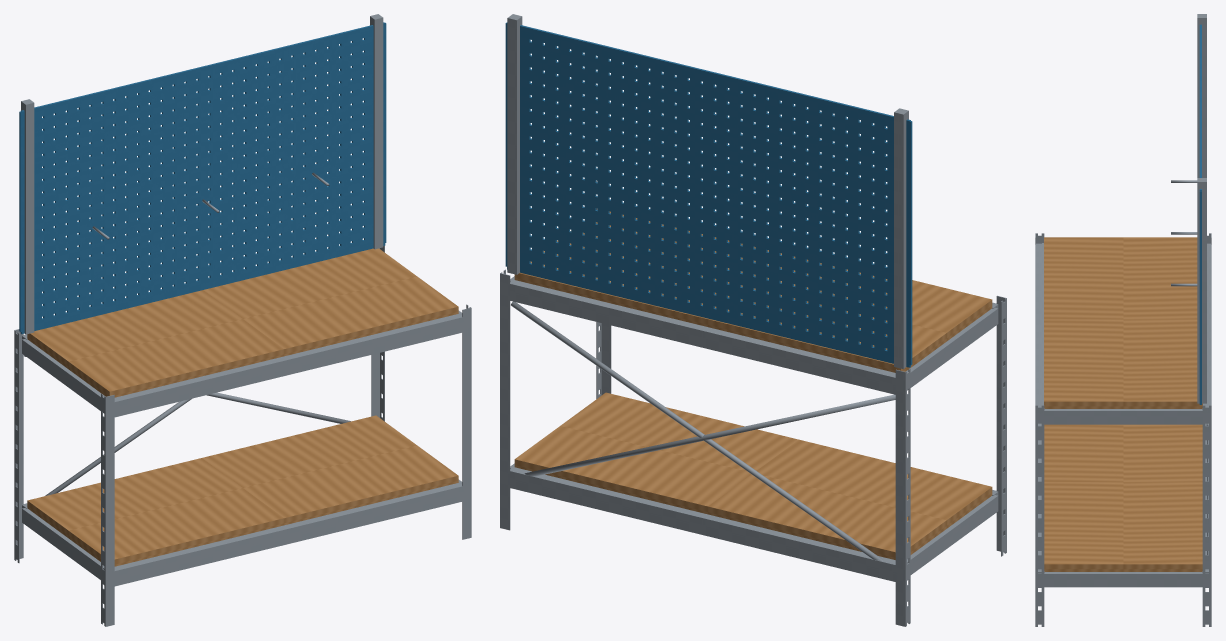
The model's file is workbench-with-pegboard.glb.
The picture shows the model from 3 angles, left to right: view 1: azimuth 30°, elevation 25°; view 2: azimuth 150°, elevation 25°; view 3: azimuth 270°, elevation 25°; orthographic projection. The views are drawn at different scales.
Parts seen in each view (by area): view 1: Shelf deck.001, Shelf deck, Shelf crossbeam, Shelf crossbeam.002, Pegboard horizontal strip.017, Pegboard horizontal strip, Pegboard horizontal strip.004, Pegboard horizontal strip.009, Pegboard horizontal strip.010, Pegboard horizontal strip.011, Pegboard horizontal strip.015, Pegboard horizontal strip.012 (+49 smaller); view 2: Shelf deck, Shelf crossbeam.003, Shelf crossbeam.001, Shelf deck.001, Pegboard horizontal strip.017, Pegboard horizontal strip.016, Pegboard horizontal strip.015, Pegboard horizontal strip.011, Pegboard horizontal strip, Pegboard horizontal strip.012, Pegboard horizontal strip.010, Pegboard horizontal strip.013 (+51 smaller); view 3: Shelf deck.001, Shelf deck, Shelf depth beam.001, Shelf depth beam.003, Pegboard frame upright.001, Shelf crossbeam.002, Pegboard frame upright, Slotted post side rail.005, Slotted post side rail.006, Shelf crossbeam.003, Slotted post side rail.004, Slotted post side rail.007 (+2 smaller).
Part boxes in pixels (x1,y1,x2,y2): Shelf deck.001: [27, 248, 458, 397]; Shelf deck: [27, 415, 458, 566]; Shelf crossbeam: [113, 482, 464, 586]; Shelf crossbeam.002: [113, 313, 464, 417]; Pegboard horizontal strip.017: [20, 22, 385, 121]; Pegboard horizontal strip: [20, 236, 385, 334]; Pegboard horizontal strip.004: [21, 186, 385, 283]; Pegboard horizontal strip.009: [21, 123, 385, 221]; Pegboard horizontal strip.010: [21, 110, 385, 208]; Pegboard horizontal strip.011: [21, 98, 385, 196]; Pegboard horizontal strip.015: [21, 48, 385, 146]; Pegboard horizontal strip.012: [21, 85, 385, 183]; Shelf deck: [514, 392, 992, 559]; Shelf crossbeam.003: [510, 279, 897, 394]; Shelf crossbeam.001: [508, 466, 897, 582]; Shelf deck.001: [514, 211, 992, 372]; Pegboard horizontal strip.017: [507, 23, 910, 131]; Pegboard horizontal strip.016: [507, 37, 909, 145]; Pegboard horizontal strip.015: [507, 51, 909, 159]; Pegboard horizontal strip.011: [507, 106, 909, 215]; Pegboard horizontal strip: [507, 259, 910, 367]; Pegboard horizontal strip.012: [507, 92, 909, 201]; Pegboard horizontal strip.010: [507, 120, 909, 228]; Pegboard horizontal strip.013: [507, 79, 909, 187]; Shelf deck.001: [1044, 237, 1202, 408]; Shelf deck: [1044, 424, 1202, 571]; Shelf depth beam.001: [1044, 572, 1202, 587]; Shelf depth beam.003: [1044, 409, 1202, 424]; Pegboard frame upright.001: [1197, 178, 1206, 403]; Shelf crossbeam.002: [1035, 243, 1044, 423]; Pegboard frame upright: [1197, 14, 1206, 177]; Slotted post side rail.005: [1041, 405, 1044, 626]; Slotted post side rail.006: [1202, 405, 1205, 626]; Shelf crossbeam.003: [1202, 243, 1211, 423]; Slotted post side rail.004: [1035, 405, 1037, 626]; Slotted post side rail.007: [1209, 405, 1211, 626].
Size of the model in its own units: 1.5 by 1.8 by 0.65.
3 materials, 3 textured.
